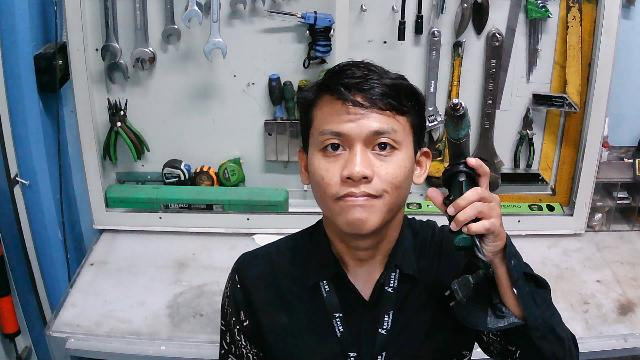gun_lem: (439, 97, 489, 252)
